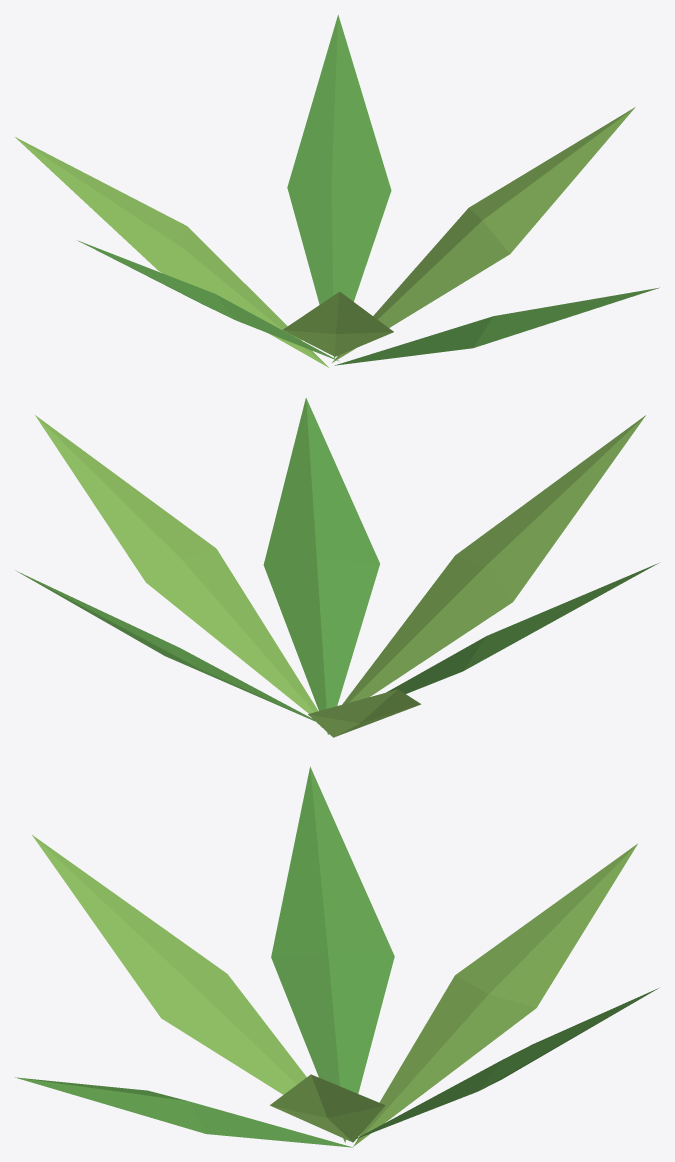
File: world_fern_a.obj
3 renders of one model, top to bottom at view 1: azimuth 30°, elevation 25°; view 2: azimuth 150°, elevation 25°; view 3: azimuth 270°, elevation 25°, orthographic. The views are drawn at different scales.
Parts seen in each view (by area): view 1: world_fern_a; view 2: world_fern_a; view 3: world_fern_a.
Part boxes in pixels (bbox=[...]): world_fern_a: bbox=[15, 15, 659, 367]; world_fern_a: bbox=[15, 398, 660, 737]; world_fern_a: bbox=[15, 766, 658, 1147].
Size of the model in its own units: 3.26 by 1.2 by 2.94.
